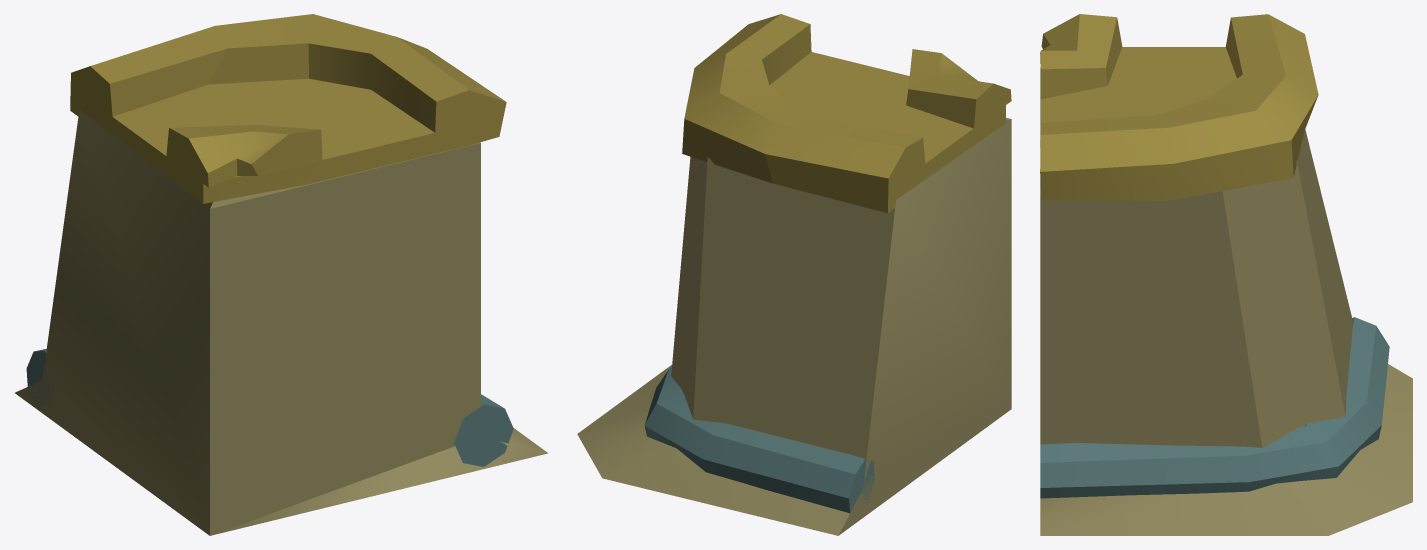
Rendered from Int_11_2_Wall_Left_Down_Diagonal.fbx.
3 views of the same model, side by side, from view 1: azimuth 30°, elevation 25°; view 2: azimuth 150°, elevation 25°; view 3: azimuth 270°, elevation 25° (orthographic). The views are drawn at different scales.
Visible parts, largest first — view 1: Int_11_2_Wall_Left_Down_Diagonal1; view 2: Int_11_2_Wall_Left_Down_Diagonal1; view 3: Int_11_2_Wall_Left_Down_Diagonal1.
Part boxes in pixels (x1,y1,x2,y2): Int_11_2_Wall_Left_Down_Diagonal1: [15, 14, 547, 535]; Int_11_2_Wall_Left_Down_Diagonal1: [577, 14, 1011, 535]; Int_11_2_Wall_Left_Down_Diagonal1: [1040, 14, 1412, 535].
Bounding box in the file's own units: 1 × 1.09 × 1.
